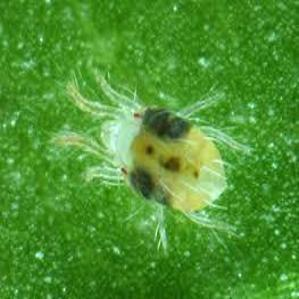spider mite: (49, 50, 248, 256)
